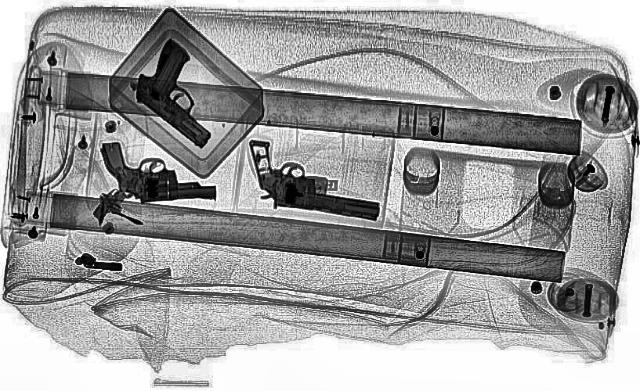Gun: (97, 38, 267, 146), (226, 140, 400, 220), (99, 135, 217, 205)
